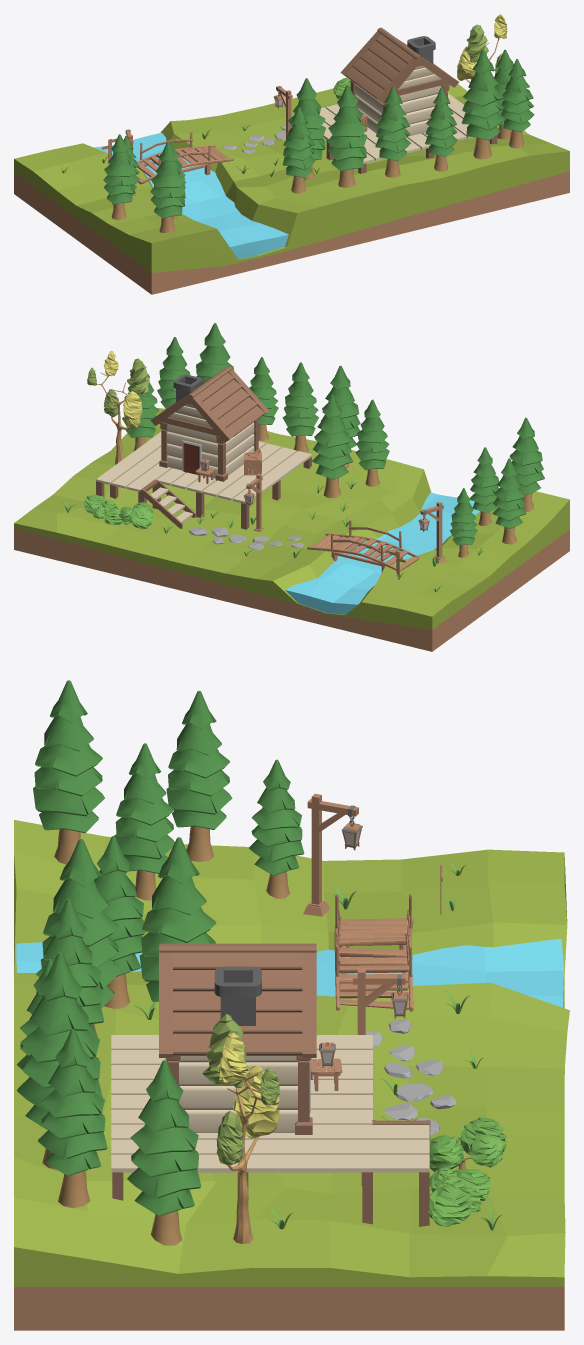
The model's file is SmallHouse3.glb.
The picture shows the model from 3 angles, top to bottom: view 1: azimuth 30°, elevation 25°; view 2: azimuth 150°, elevation 25°; view 3: azimuth 270°, elevation 25°; orthographic projection. The views are drawn at different scales.
Visible parts, largest first — view 1: Ground, Roof, River, Tree.007, Tree.001, Tree.009, Floor & stairs, Tree.004, Tree.008, Tree.003, Tree.011, Bridge (+6 smaller); view 2: Ground, Roof, Floor & stairs, River, Tree, Tree.002, Bridge, Tree.004, Tree.003, Tree.009, Tree.011, Tree.010 (+12 smaller); view 3: Ground, Roof, Floor & stairs, River, Tree.005, Tree.009, Tree.002, Tree.008, Tree.011, Tree.007, Bridge, Tree (+11 smaller).
Part boxes in pixels (x1=…): Ground: x1=14, y1=84, x2=569, y2=294; Roof: x1=340, y1=27, x2=459, y2=136; River: x1=94, y1=132, x2=288, y2=258; Tree.007: x1=461, y1=50, x2=504, y2=159; Tree.001: x1=327, y1=85, x2=366, y2=187; Tree.009: x1=150, y1=141, x2=185, y2=232; Floor & stairs: x1=319, y1=93, x2=497, y2=173; Tree.004: x1=375, y1=86, x2=410, y2=177; Tree.008: x1=501, y1=59, x2=534, y2=148; Tree.003: x1=282, y1=107, x2=315, y2=193; Tree.011: x1=103, y1=134, x2=135, y2=220; Bridge: x1=136, y1=132, x2=233, y2=186; Ground: x1=14, y1=408, x2=569, y2=651; Roof: x1=150, y1=366, x2=268, y2=481; Floor & stairs: x1=96, y1=432, x2=312, y2=529; River: x1=285, y1=492, x2=479, y2=614; Tree: x1=312, y1=395, x2=353, y2=498; Tree.002: x1=87, y1=350, x2=149, y2=464; Bridge: x1=307, y1=520, x2=419, y2=572; Tree.004: x1=282, y1=362, x2=318, y2=452; Tree.003: x1=355, y1=399, x2=389, y2=486; Tree.009: x1=509, y1=417, x2=544, y2=511; Tree.011: x1=492, y1=458, x2=526, y2=544; Tree.010: x1=469, y1=447, x2=498, y2=525; Ground: x1=14, y1=820, x2=569, y2=1330; Roof: x1=159, y1=943, x2=316, y2=1134; Floor & stairs: x1=111, y1=1035, x2=430, y2=1226; River: x1=16, y1=939, x2=563, y2=1007; Tree.005: x1=127, y1=1060, x2=201, y2=1245; Tree.009: x1=33, y1=680, x2=104, y2=864; Tree.002: x1=202, y1=1014, x2=280, y2=1243; Tree.008: x1=38, y1=1029, x2=107, y2=1207; Tree.011: x1=166, y1=691, x2=232, y2=861; Tree.007: x1=16, y1=952, x2=102, y2=1170; Bridge: x1=334, y1=893, x2=413, y2=1011; Tree: x1=139, y1=837, x2=216, y2=1001.
Size of what is drawn, in the model's own units: 36.86 by 12.81 by 21.2.
